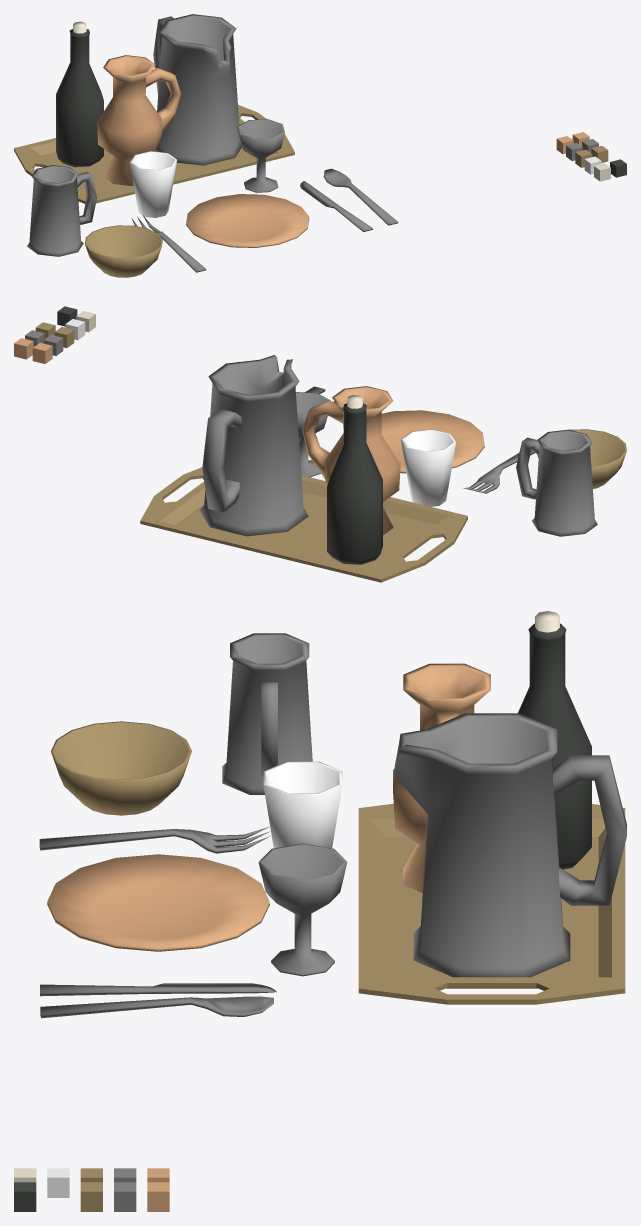
The model's file is dinnerware.gltf.
3 renders of one model, top to bottom at view 1: azimuth 30°, elevation 25°; view 2: azimuth 150°, elevation 25°; view 3: azimuth 270°, elevation 25°, orthographic. The views are drawn at different scales.
Visible parts, largest first — view 1: Pitcher, Jug, DinnerPlate, WineBottle, Tankard, Platter, DinnerBowl, Cup, Goblet, Spoon, Knife, Fork; view 2: Pitcher, Platter, WineBottle, Tankard, Jug, Cup, DinnerPlate, DinnerBowl, Goblet, Fork; view 3: Pitcher, Platter, DinnerPlate, Tankard, DinnerBowl, WineBottle, Goblet, Jug, Cup, Spoon, Fork, Knife.
Boxes of the visible parts, left/top/right/bottom form: Pitcher: left=153, top=14, right=241, bottom=165; Jug: left=97, top=55, right=181, bottom=186; DinnerPlate: left=186, top=194, right=309, bottom=247; WineBottle: left=56, top=21, right=103, bottom=167; Tankard: left=27, top=165, right=96, bottom=256; Platter: left=14, top=105, right=294, bottom=203; DinnerBowl: left=85, top=225, right=162, bottom=277; Cup: left=130, top=151, right=176, bottom=217; Goblet: left=237, top=119, right=284, bottom=192; Spoon: left=323, top=168, right=398, bottom=225; Knife: left=300, top=181, right=372, bottom=231; Fork: left=131, top=215, right=206, bottom=272; Pitcher: left=199, top=355, right=308, bottom=536; Platter: left=140, top=467, right=467, bottom=582; WineBottle: left=327, top=395, right=382, bottom=564; Tankard: left=516, top=429, right=597, bottom=536; Jug: left=302, top=386, right=400, bottom=535; Cup: left=401, top=429, right=455, bottom=506; DinnerPlate: left=381, top=410, right=484, bottom=473; DinnerBowl: left=537, top=429, right=626, bottom=488; Goblet: left=296, top=392, right=330, bottom=477; Fork: left=463, top=449, right=535, bottom=493; Pitcher: left=394, top=713, right=626, bottom=977; Platter: left=358, top=803, right=625, bottom=1004; DinnerPlate: left=47, top=854, right=269, bottom=951; Tankard: left=222, top=633, right=312, bottom=794; DinnerBowl: left=51, top=721, right=191, bottom=815; WineBottle: left=518, top=611, right=591, bottom=869; Goblet: left=258, top=843, right=347, bottom=976; Jug: left=393, top=663, right=490, bottom=892; Cup: left=263, top=761, right=342, bottom=848; Spoon: left=40, top=996, right=273, bottom=1018; Fork: left=39, top=826, right=270, bottom=853; Knife: left=40, top=983, right=276, bottom=996.
Size of what is drawn, in the model's own units: 9.73 by 2.46 by 5.51.
